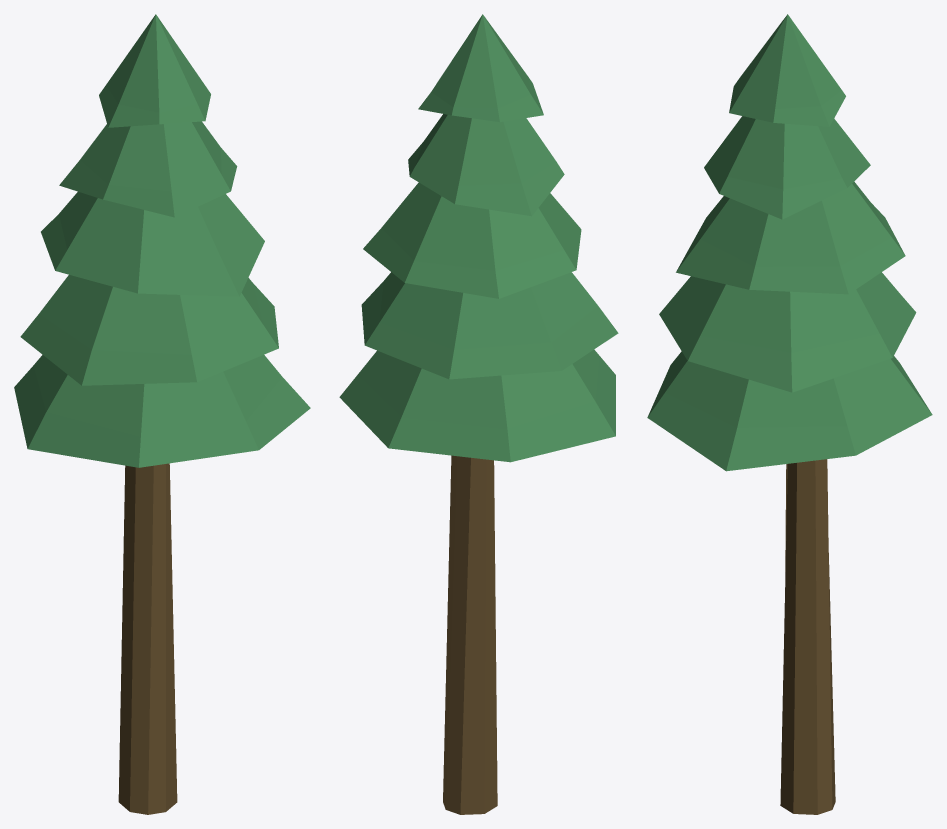
The model's file is Nadelbaum 5.fbx.
The picture shows the model from 3 angles, left to right: view 1: azimuth 30°, elevation 25°; view 2: azimuth 150°, elevation 25°; view 3: azimuth 270°, elevation 25°; orthographic projection.
Visible parts, largest first — view 1: Kegel_2, stamm; view 2: Kegel_2, stamm; view 3: Kegel_2, stamm.
Boxes of the visible parts, x1,y1,x2,y2 form: Kegel_2: (14,14,310,467); stamm: (118,463,177,814); Kegel_2: (339,14,618,462); stamm: (443,455,497,814); Kegel_2: (647,14,932,471); stamm: (780,459,835,814).
Size of the model in its own units: 341 by 1015 by 333.
